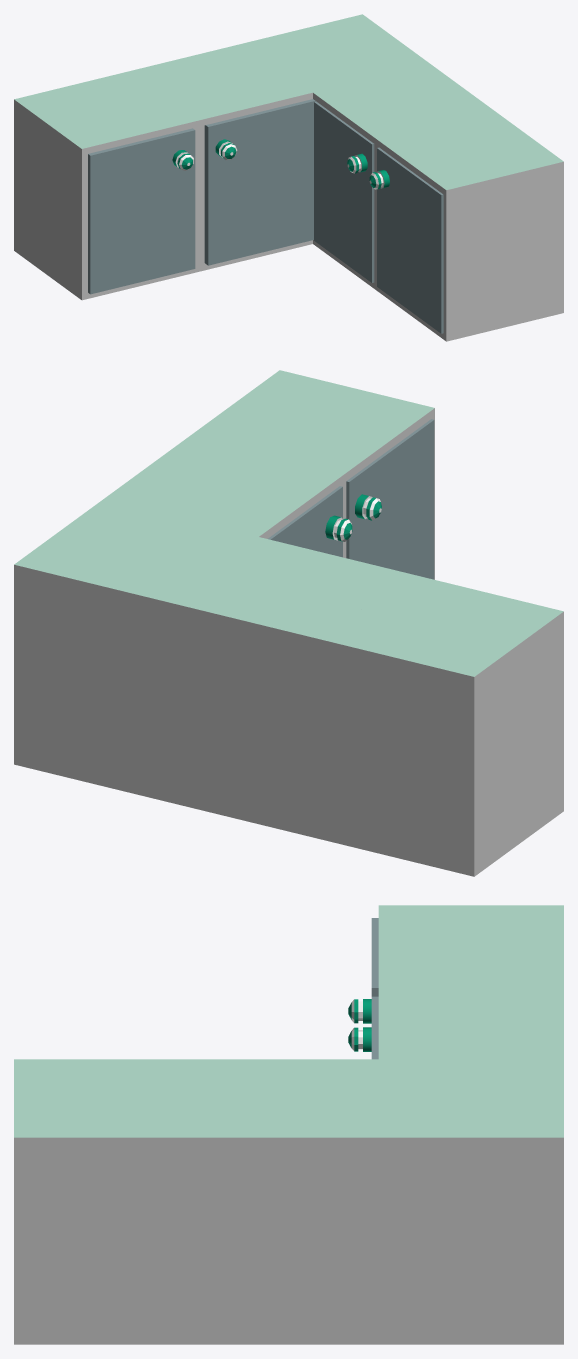
The model's file is Cabinet_Green_Lower_Corner.fbx.
The picture shows the model from 3 angles, top to bottom: view 1: azimuth 30°, elevation 25°; view 2: azimuth 150°, elevation 25°; view 3: azimuth 270°, elevation 25°; orthographic projection. The views are drawn at different scales.
Parts seen in each view (by area): view 1: Cabinet_Green_Lower_Corner, Cabinet_Green_Lower02, Cabinet_Green_Lower01, Cabinet_Green_Lower04, Cabinet_Green_Lower03; view 2: Cabinet_Green_Lower_Corner, Cabinet_Green_Lower04, Cabinet_Green_Lower03; view 3: Cabinet_Green_Lower_Corner, Cabinet_Green_Lower01, Cabinet_Green_Lower02.
Boxes of the visible parts, x1=… form: Cabinet_Green_Lower_Corner: x1=14, y1=14, x2=563, y2=341; Cabinet_Green_Lower02: x1=204, y1=99, x2=315, y2=265; Cabinet_Green_Lower01: x1=88, y1=128, x2=195, y2=294; Cabinet_Green_Lower04: x1=369, y1=147, x2=443, y2=333; Cabinet_Green_Lower03: x1=314, y1=101, x2=374, y2=282; Cabinet_Green_Lower_Corner: x1=14, y1=370, x2=563, y2=876; Cabinet_Green_Lower04: x1=346, y1=419, x2=434, y2=579; Cabinet_Green_Lower03: x1=268, y1=486, x2=352, y2=557; Cabinet_Green_Lower_Corner: x1=14, y1=905, x2=563, y2=1344; Cabinet_Green_Lower01: x1=348, y1=918, x2=378, y2=1023; Cabinet_Green_Lower02: x1=348, y1=996, x2=378, y2=1059.
Bounding box in the file's own units: 200 × 82.98 × 200.
